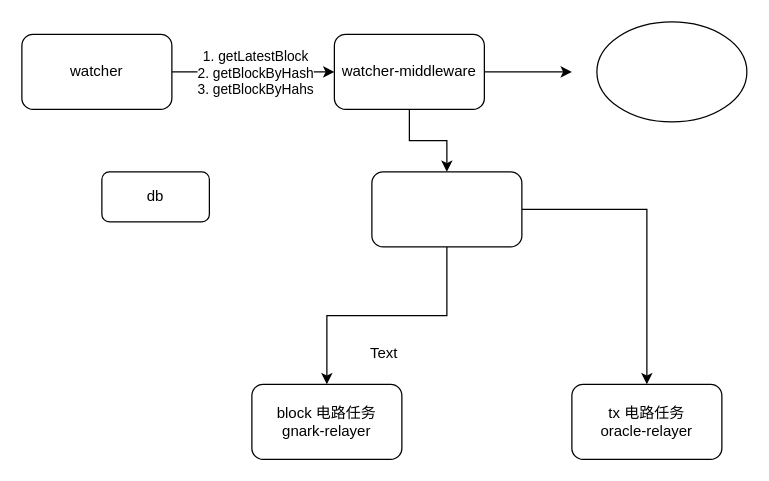
This 769x481 diagram has some shape labels left out. Here are the shapes that lost their labels. From the top down, the box of each, then its label:
(596, 21, 747, 122): 区块 事件
(371, 171, 522, 247): assign-job
